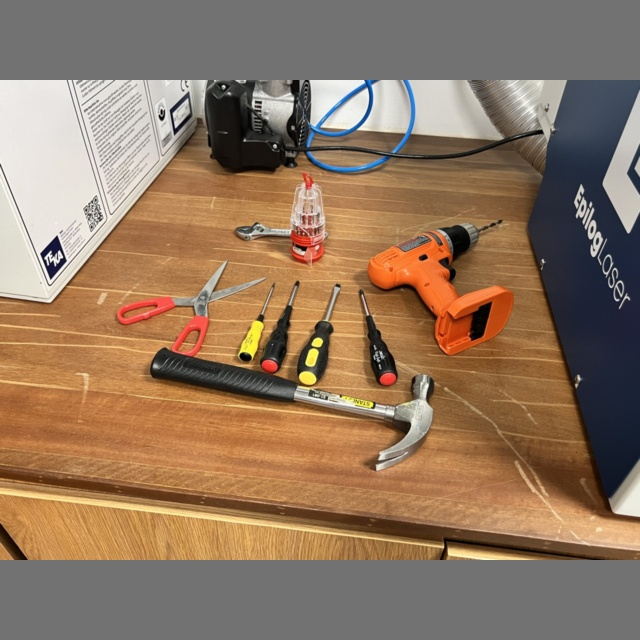drill: (368, 224, 514, 356)
scissor: (117, 260, 265, 356)
screwdriver: (297, 284, 340, 386), (358, 289, 397, 386), (261, 281, 299, 373), (239, 279, 275, 362)
